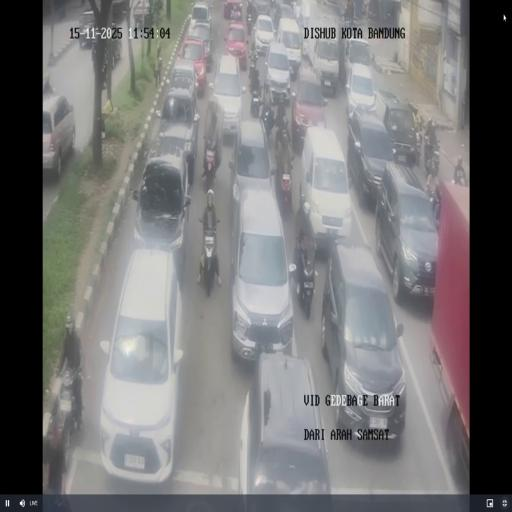3: (429, 186, 469, 486)
car: (97, 246, 186, 482), (322, 242, 406, 435), (240, 350, 335, 507), (229, 188, 295, 362), (376, 164, 439, 300), (133, 150, 192, 267), (300, 125, 352, 250), (231, 116, 273, 216), (209, 51, 243, 142), (292, 68, 328, 150), (42, 94, 76, 180), (379, 102, 420, 168), (263, 39, 293, 102), (178, 36, 209, 96), (313, 36, 341, 94), (88, 27, 122, 74), (344, 40, 372, 92), (296, 0, 319, 58), (224, 22, 248, 70), (251, 13, 276, 57), (188, 1, 212, 45), (78, 10, 96, 50), (376, 88, 402, 114), (132, 0, 153, 27), (276, 3, 296, 27), (223, 0, 243, 21), (250, 0, 271, 16)
truck: (44, 365, 83, 476), (294, 230, 318, 316), (275, 144, 295, 216), (199, 236, 219, 296), (201, 147, 218, 195), (423, 133, 440, 177), (426, 183, 442, 225), (260, 96, 275, 136), (248, 54, 260, 92), (276, 110, 290, 140), (413, 123, 423, 163), (452, 173, 468, 187), (246, 10, 254, 34), (337, 2, 347, 21), (262, 76, 270, 96)
